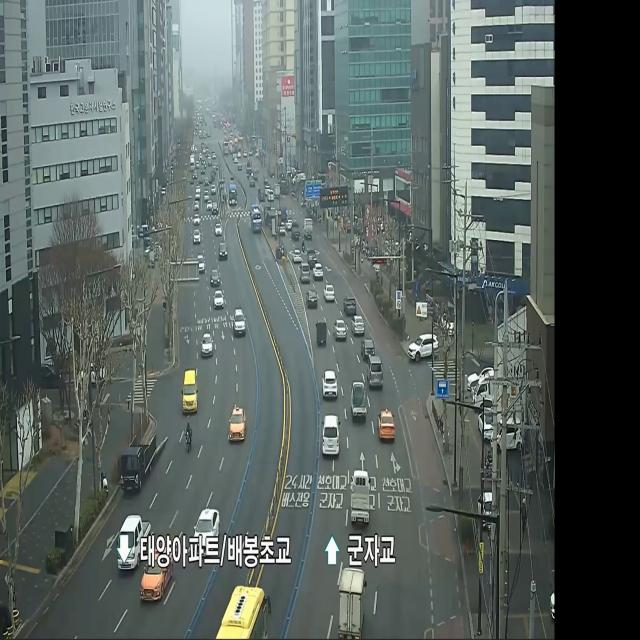bus: (185, 414, 193, 458)
motorcycle: (137, 535, 178, 610), (190, 497, 221, 564), (224, 395, 248, 451), (178, 361, 200, 422), (319, 407, 342, 465), (406, 330, 440, 366), (375, 400, 398, 448), (319, 361, 342, 405), (231, 299, 247, 344), (368, 350, 384, 391), (332, 314, 348, 348), (351, 310, 366, 338), (342, 292, 359, 316), (200, 329, 214, 358), (322, 281, 337, 305), (306, 288, 320, 312), (213, 288, 225, 313), (210, 266, 221, 289), (312, 260, 324, 281), (218, 241, 229, 263), (300, 260, 310, 284), (192, 227, 202, 246), (213, 220, 223, 238)
truck: (117, 422, 159, 501), (116, 504, 152, 576), (337, 557, 366, 640), (350, 466, 371, 530), (349, 375, 369, 426), (315, 319, 328, 351)
